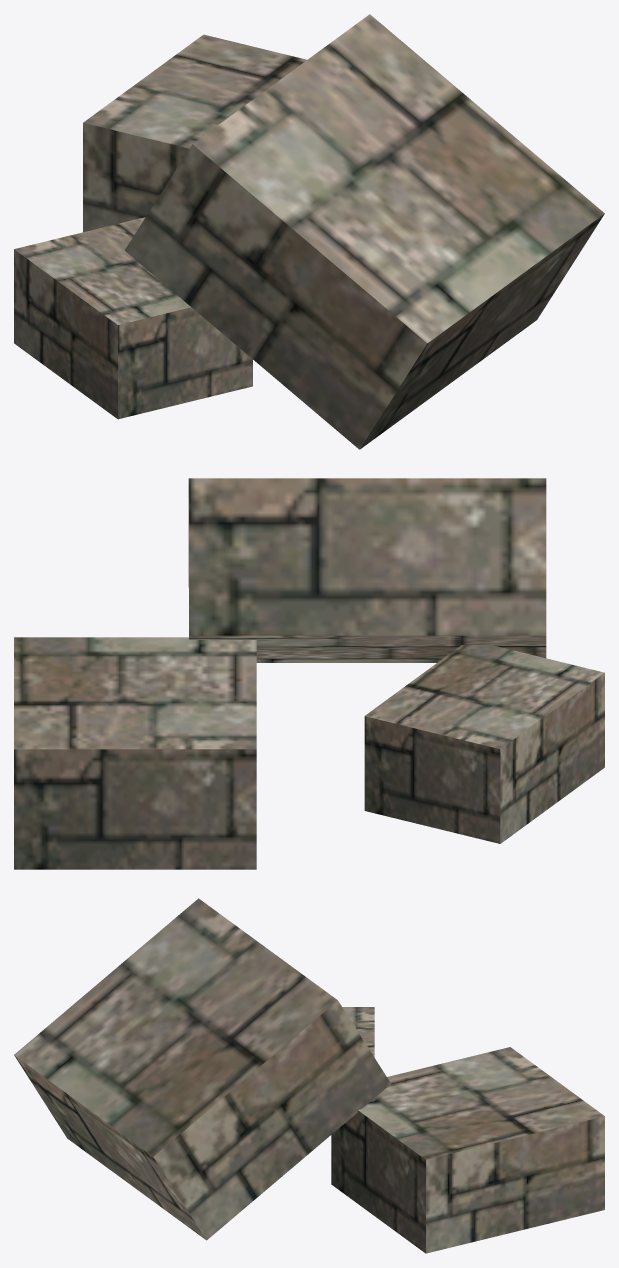
File: d_stone2.glb
The picture shows the model from 3 angles, top to bottom: view 1: azimuth 30°, elevation 25°; view 2: azimuth 150°, elevation 25°; view 3: azimuth 270°, elevation 25°; orthographic projection. The views are drawn at different scales.
Parts seen in each view (by area): view 1: d_stone2-col; view 2: d_stone2-col; view 3: d_stone2-col.
Boxes of the visible parts, <box> form: d_stone2-col: <box>14,14,604,449</box>; d_stone2-col: <box>14,478,604,869</box>; d_stone2-col: <box>14,898,604,1253</box>.
Size of the model in its own units: 0.1524 by 0.0857 by 0.2205.
1 material, 1 textured.
